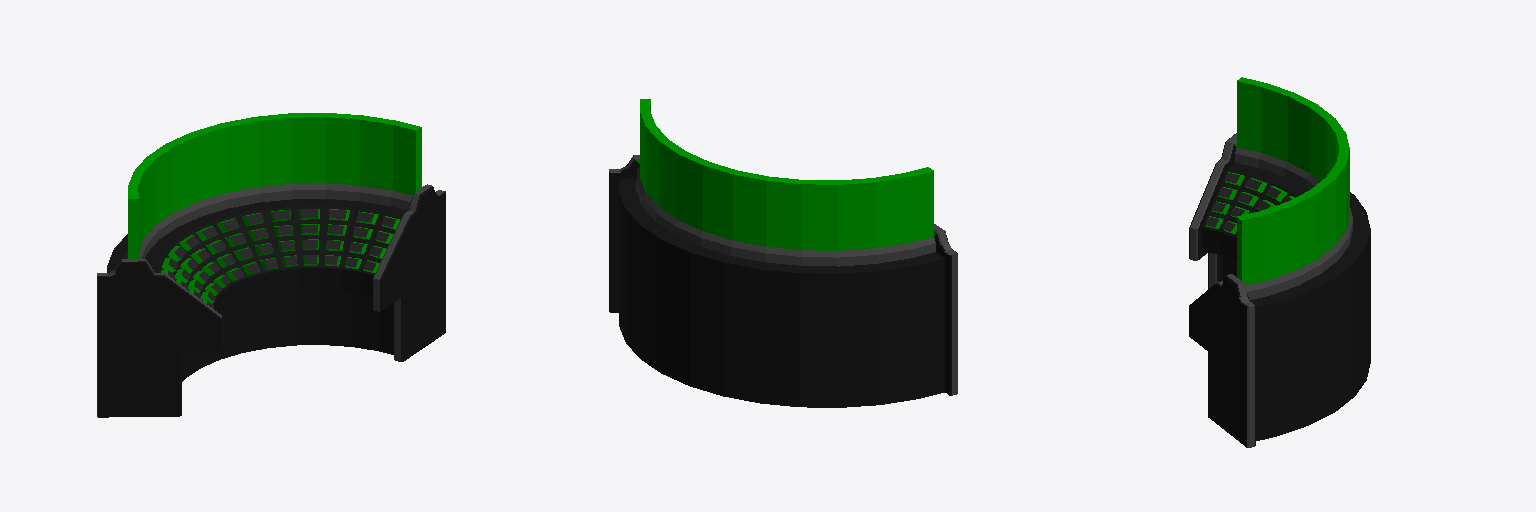
Rendered from terminal.obj.
3 renders of one model, left to right at view 1: azimuth 30°, elevation 25°; view 2: azimuth 150°, elevation 25°; view 3: azimuth 270°, elevation 25°, orthographic.
Parts seen in each view (by area): view 1: Cylinder.017_Cylinder.021; view 2: Cylinder.017_Cylinder.021; view 3: Cylinder.017_Cylinder.021.
Part boxes in pixels (x1,y1,x2,y2): Cylinder.017_Cylinder.021: (97, 113, 445, 417); Cylinder.017_Cylinder.021: (609, 99, 957, 407); Cylinder.017_Cylinder.021: (1189, 77, 1370, 447).
Bounding box in the file's own units: 2.71 × 1.59 × 1.22.